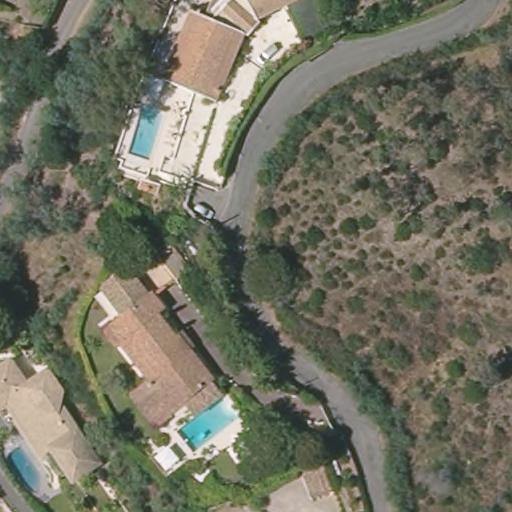pool: (178, 395, 235, 450), (126, 101, 164, 160), (6, 440, 44, 498)
